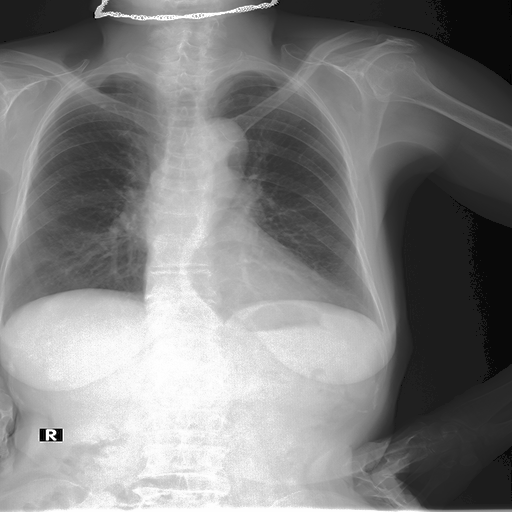Consolidation: (199, 117, 250, 172)
Nodule/Mass: (142, 271, 342, 325)
